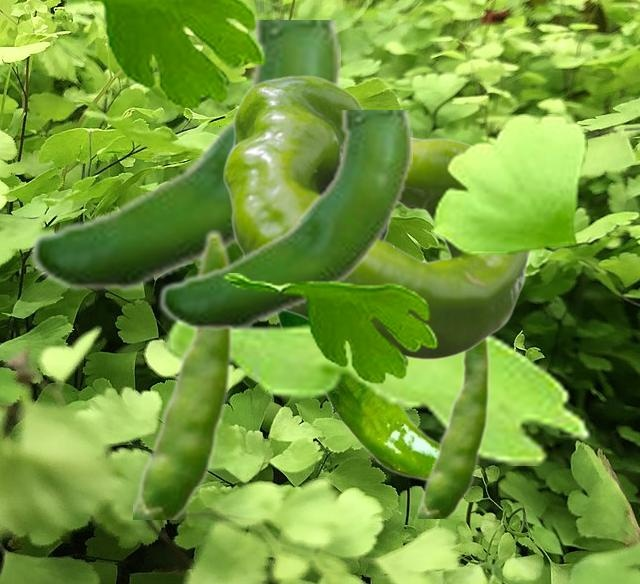green_chili: (223, 75, 531, 359), (28, 20, 339, 293), (157, 110, 411, 332), (133, 228, 234, 518), (276, 313, 437, 481), (418, 338, 490, 517)
